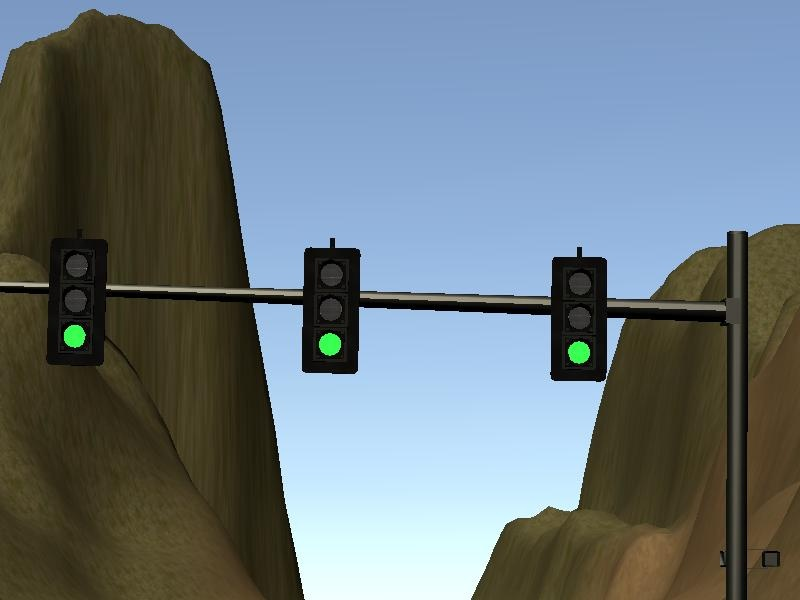GREEN: (47, 237, 108, 368), (300, 245, 358, 376), (549, 256, 608, 382)
